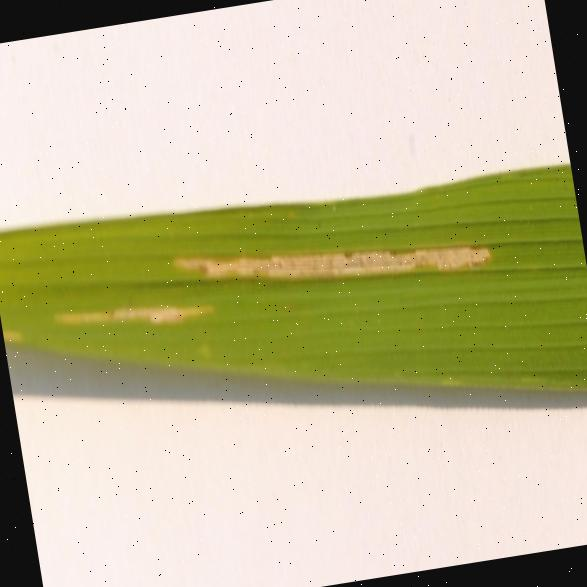Bacteria_Leaf_Blight: (164, 187, 512, 346), (44, 260, 244, 387)
